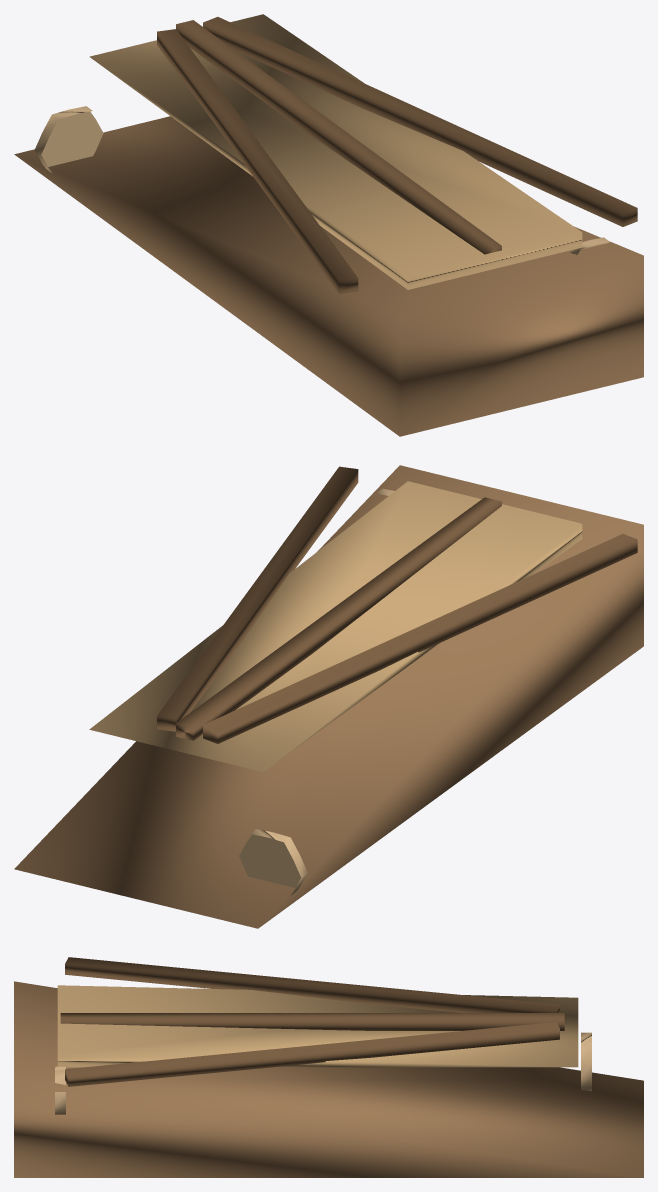
File: log_ramp.glb
The picture shows the model from 3 angles, top to bottom: view 1: azimuth 30°, elevation 25°; view 2: azimuth 150°, elevation 25°; view 3: azimuth 270°, elevation 25°; orthographic projection. The views are drawn at different scales.
Visible parts, largest first — view 1: log_ramp__surf_wood_plank; view 2: log_ramp__surf_wood_plank; view 3: log_ramp__surf_wood_plank.
Part boxes in pixels (x1,y1,x2,y2): log_ramp__surf_wood_plank: (14, 14, 643, 436); log_ramp__surf_wood_plank: (14, 465, 643, 928); log_ramp__surf_wood_plank: (14, 957, 643, 1177).
Size of the model in its own units: 0.5136 by 0.2298 by 1.15.
